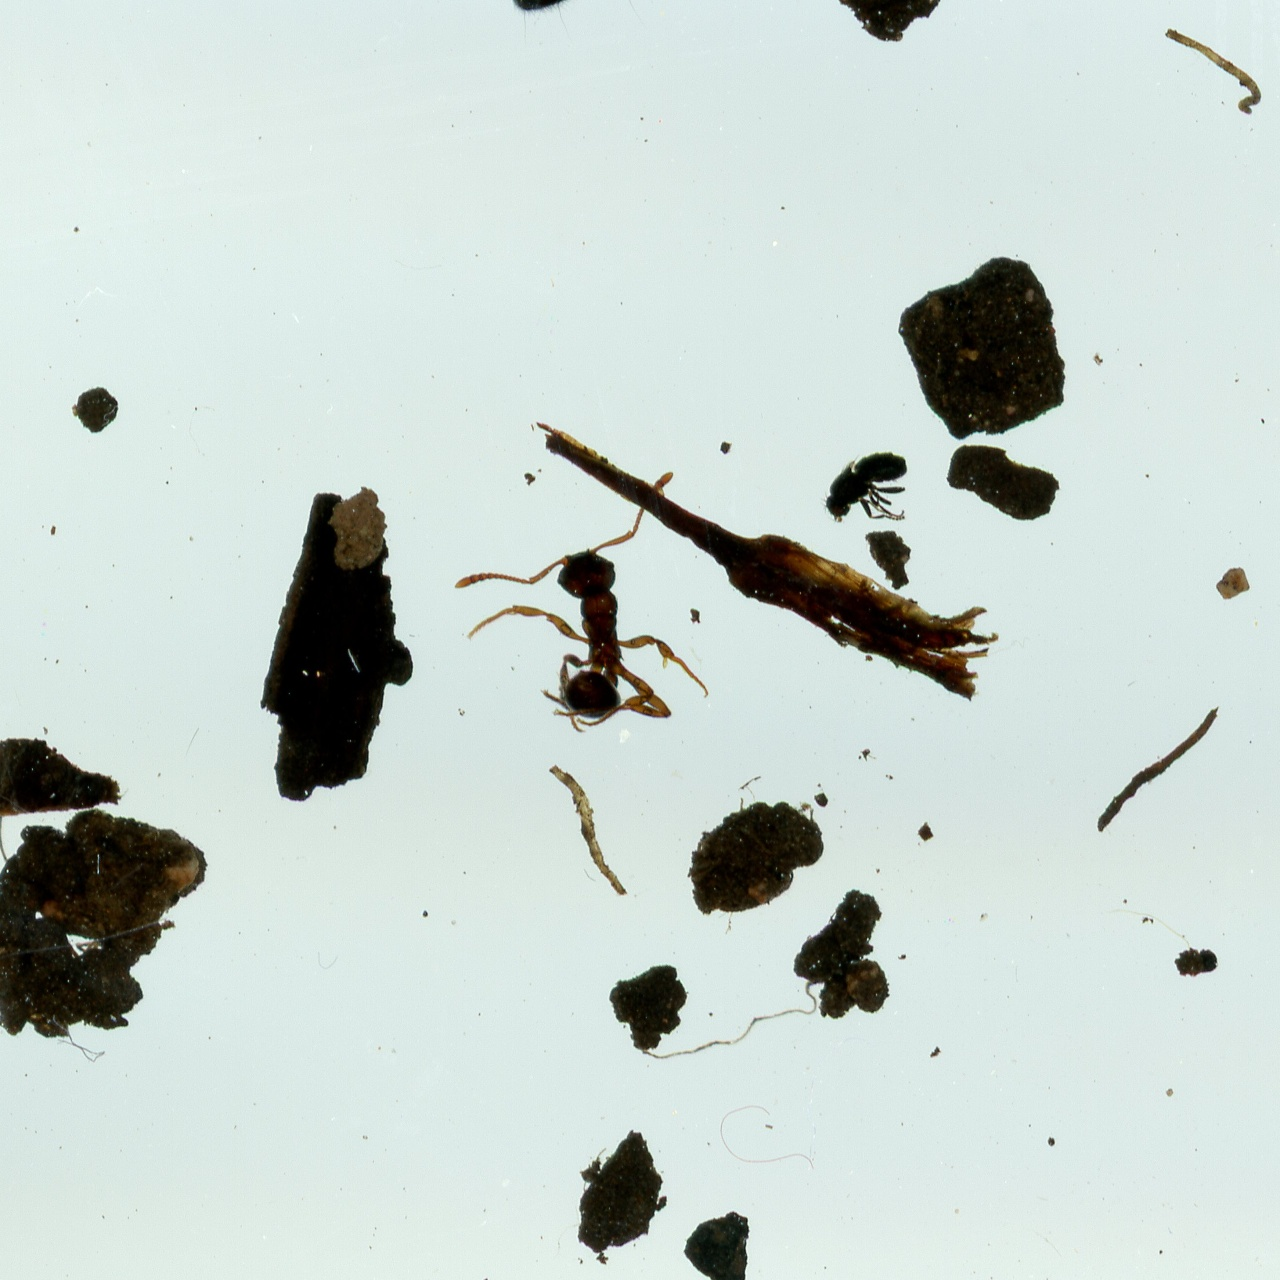arthropod: (451, 466, 714, 735), (342, 0, 892, 100), (816, 444, 913, 531)
